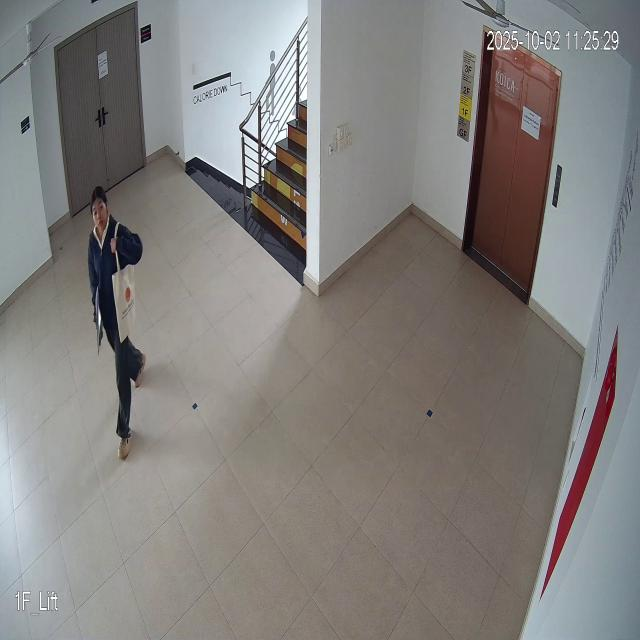face: (87, 183, 109, 236)
